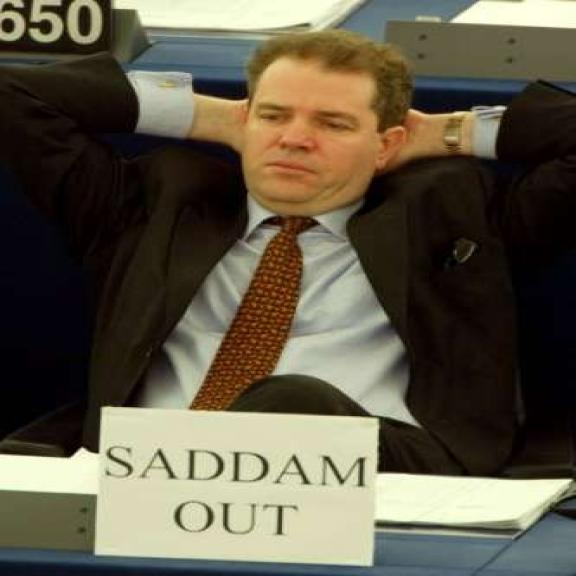face: (245, 62, 410, 214)
